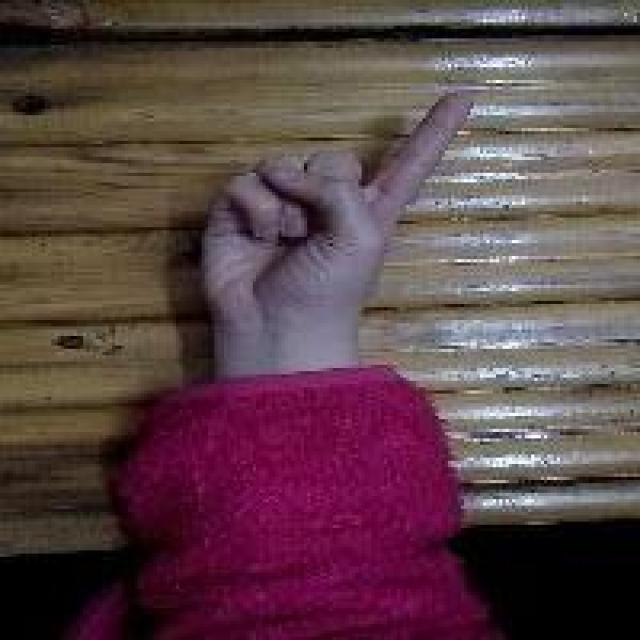Z: (189, 86, 483, 330)
